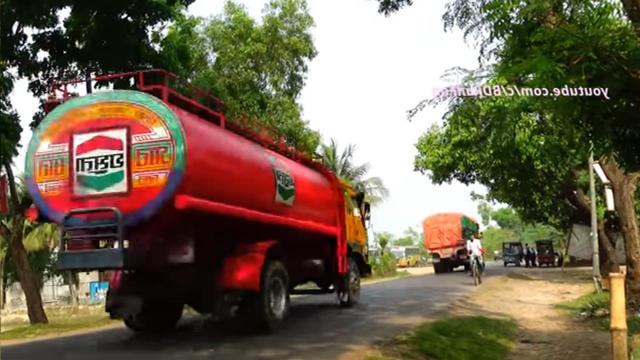bus: (389, 239, 420, 272)
truck: (11, 70, 374, 324), (419, 198, 484, 279)
